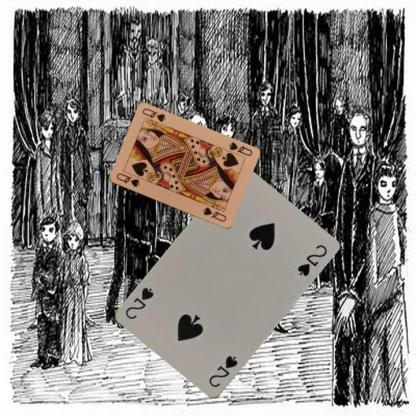2s: (206, 353, 239, 389)
Qs: (226, 139, 253, 157), (113, 171, 141, 188)
